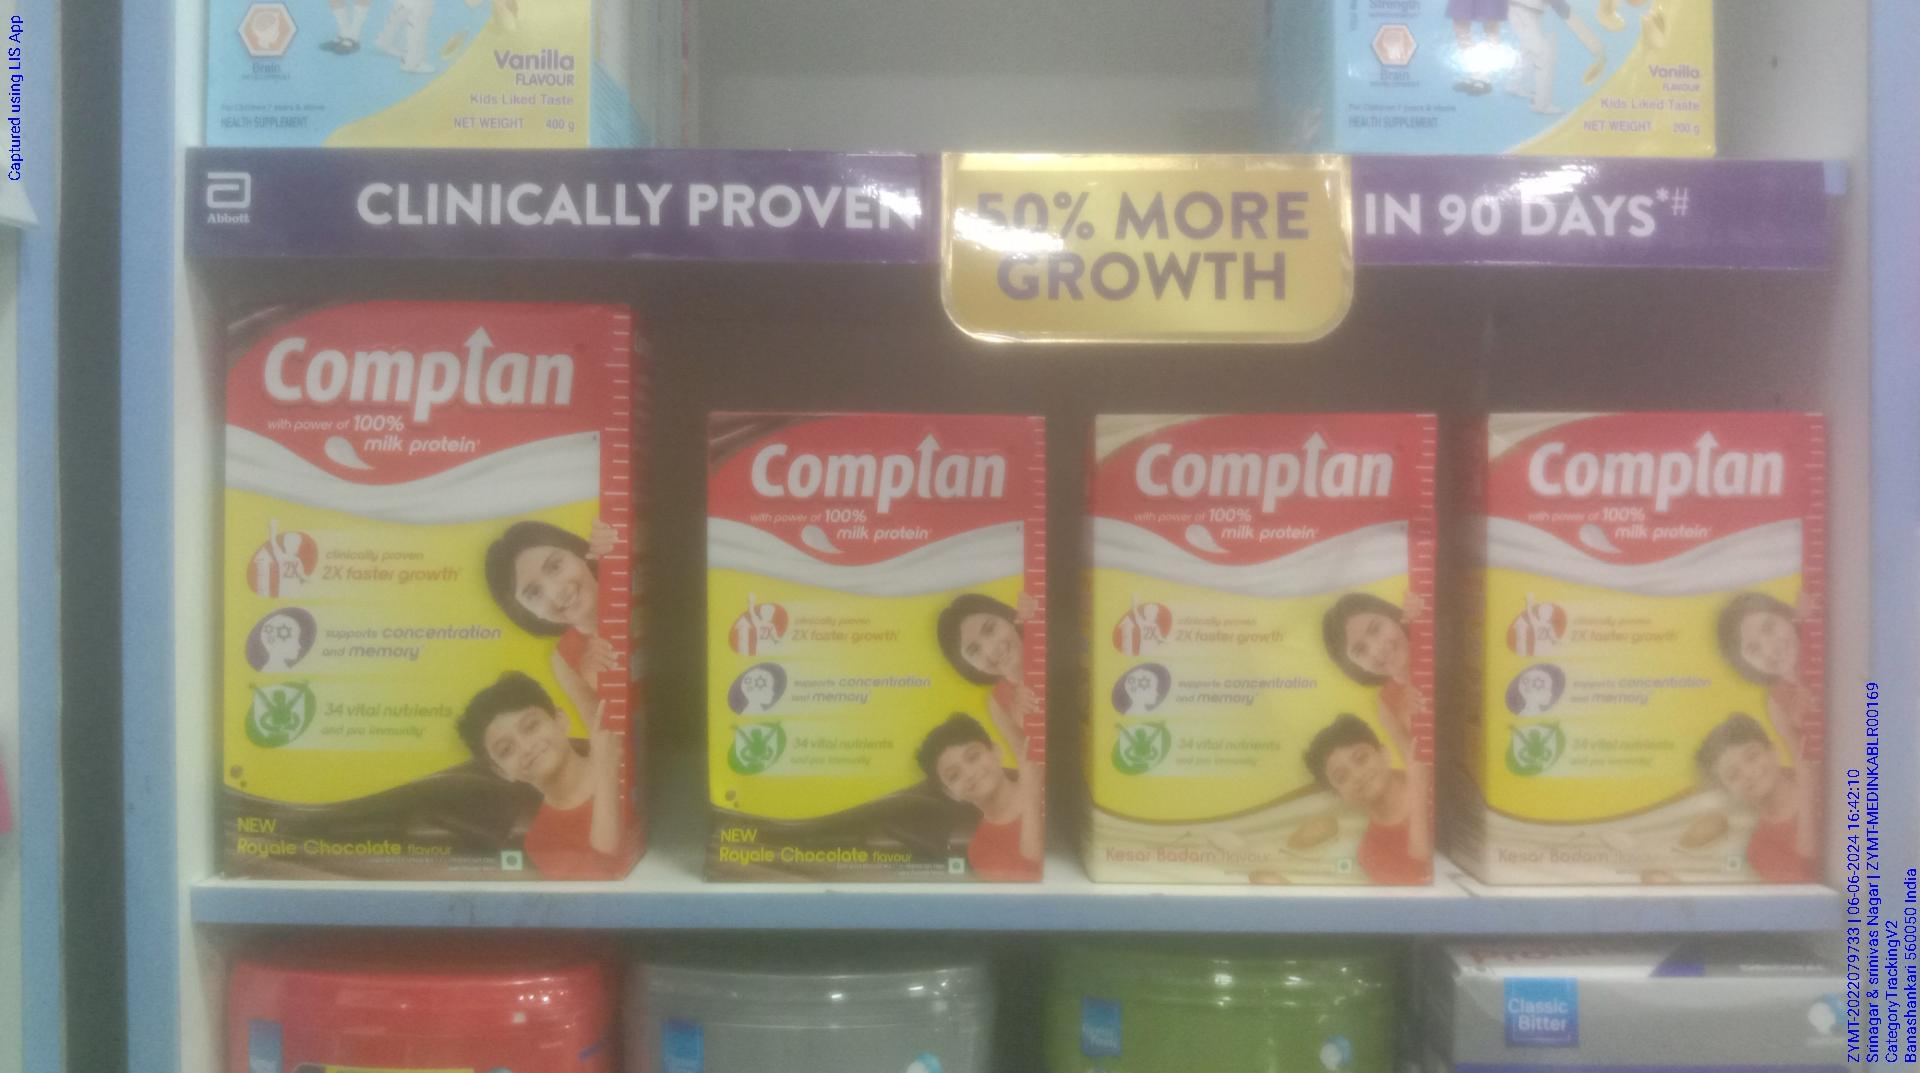COMPLAN_CHOCOLATE_1_KG_PACK: (220, 301, 603, 884)
COMPLAN_CHOCOLATE_500_GMS_PACK: (705, 402, 1034, 882)
COMPLAN_KESAR_BADAM_500_GMS_PACK: (1092, 409, 1429, 896), (1487, 410, 1826, 886)
